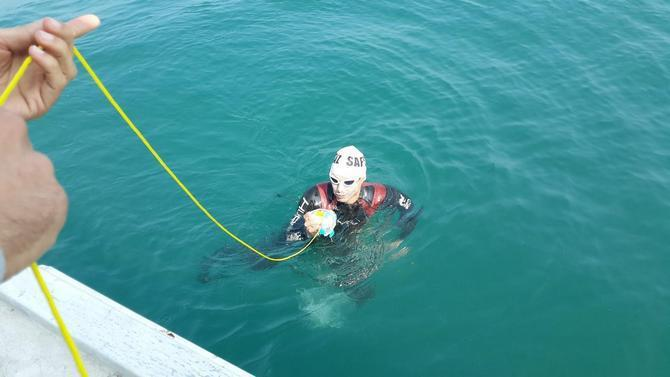swimmer: (211, 140, 426, 292)
